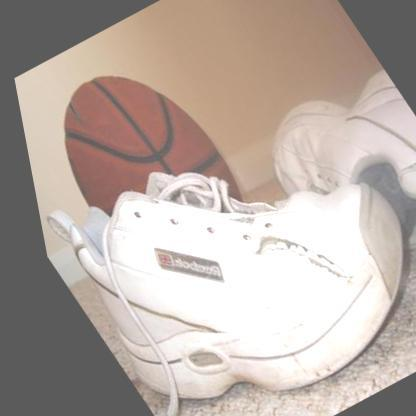basketball: (14, 47, 245, 252)
